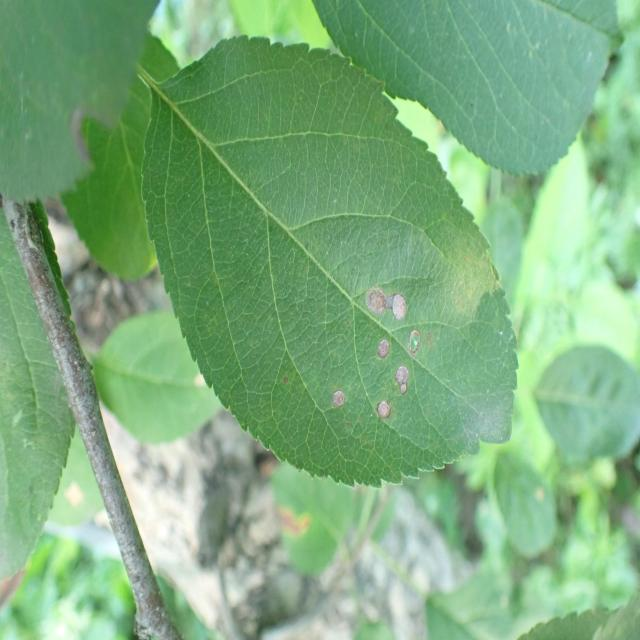Black Rot: (364, 397, 407, 427), (390, 281, 414, 333), (372, 319, 389, 378), (363, 277, 388, 315), (327, 378, 350, 418), (392, 362, 412, 401), (404, 320, 421, 360)
